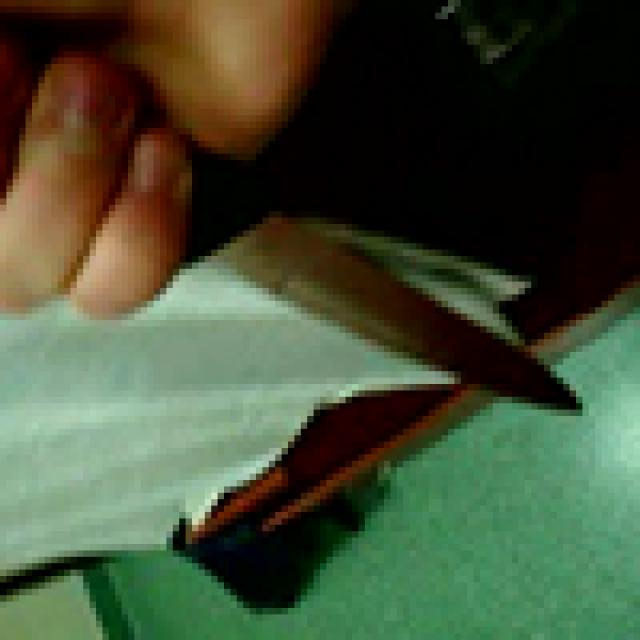Knife: (102, 115, 576, 416)
